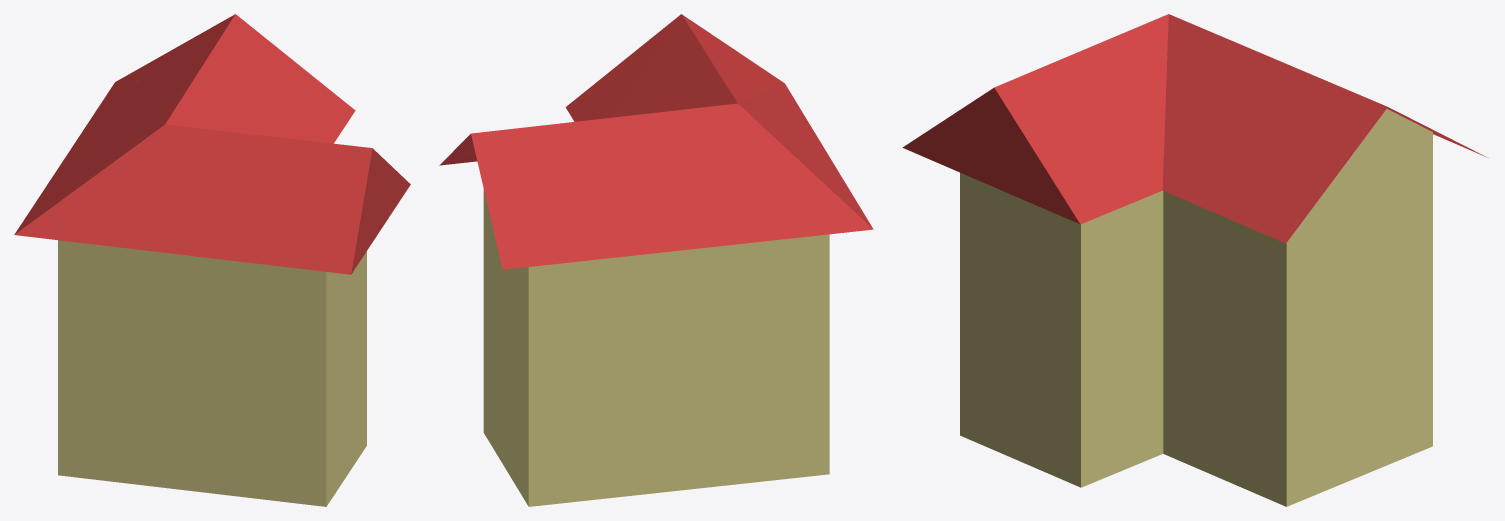
3 renders of one model, left to right at view 1: azimuth 30°, elevation 25°; view 2: azimuth 150°, elevation 25°; view 3: azimuth 270°, elevation 25°, orthographic. The views are drawn at different scales.
Visible parts, largest first — view 1: group_5, group_3, group_4; view 2: group_5, group_3, group_4; view 3: group_5, group_3, group_4.
Part boxes in pixels (box(x1,y1,x2,y2)): group_5: box(58, 240, 366, 506); group_3: box(15, 14, 410, 274); group_4: box(14, 14, 409, 274); group_5: box(483, 189, 829, 506); group_3: box(487, 14, 873, 233); group_4: box(439, 14, 872, 269); group_5: box(960, 109, 1432, 506); group_3: box(903, 14, 1487, 243); group_4: box(903, 88, 1260, 224).
Bounding box in the file's own units: 12.43 × 14.39 × 10.31.
